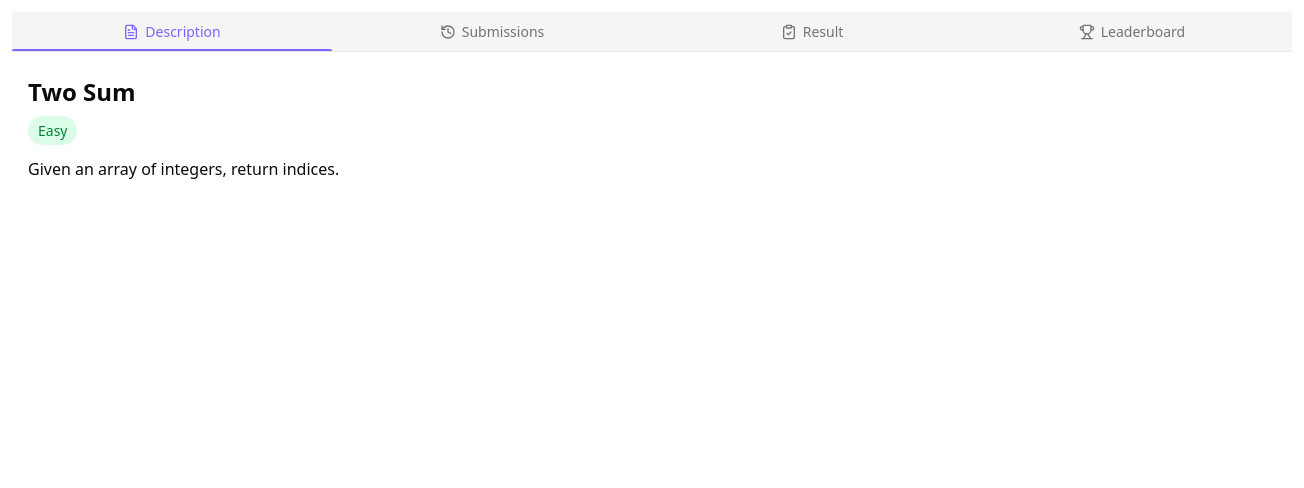
CodeDescArea — submission detail view › goes back to submissions list when back button is clicked
The image size is (1304, 488).
Expected: the element with test id "tabs-list" is shown, [12, 12, 1292, 52]
Click the tab "Submissions" at x=492, y=32, box [332, 12, 652, 51]
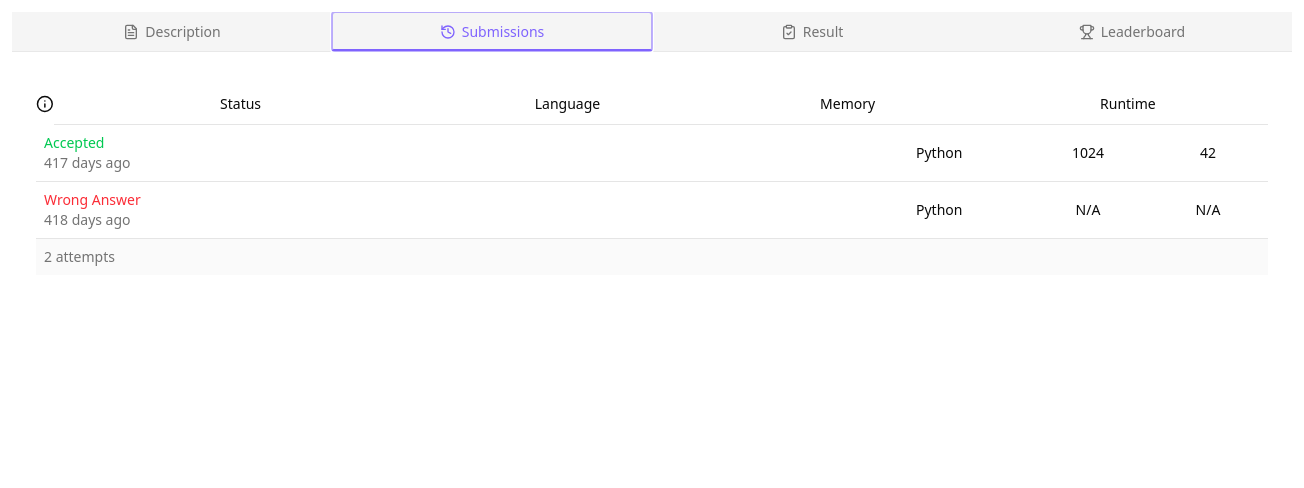
Now the row with test id "submission-1" is shown
Click the row with test id "submission-1" at x=652, y=153, box [36, 124, 1268, 181]
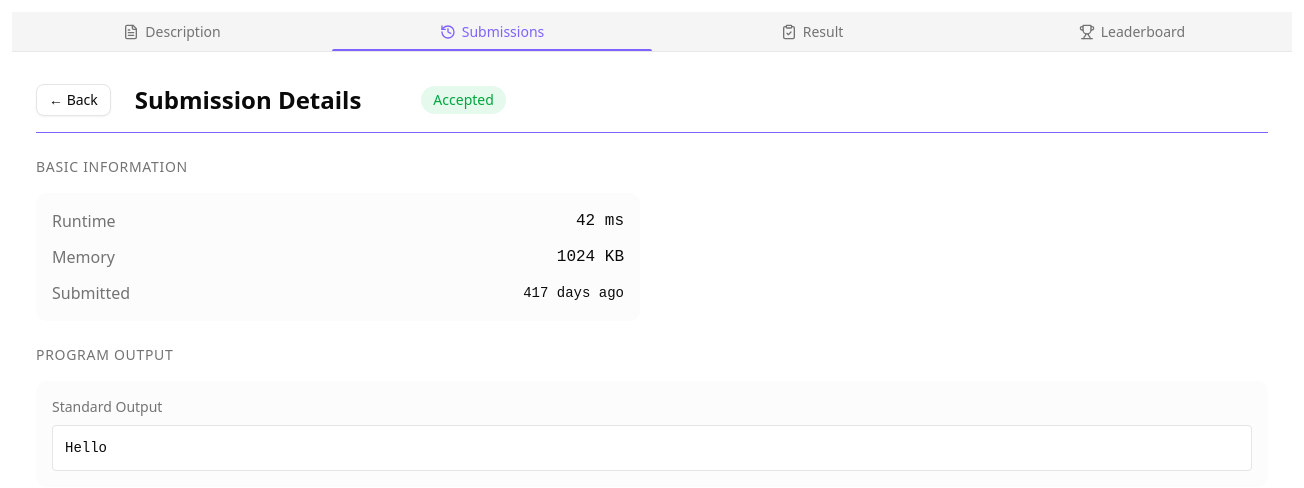
Click the button with test id "back-btn" at x=73, y=100, box [36, 84, 111, 116]
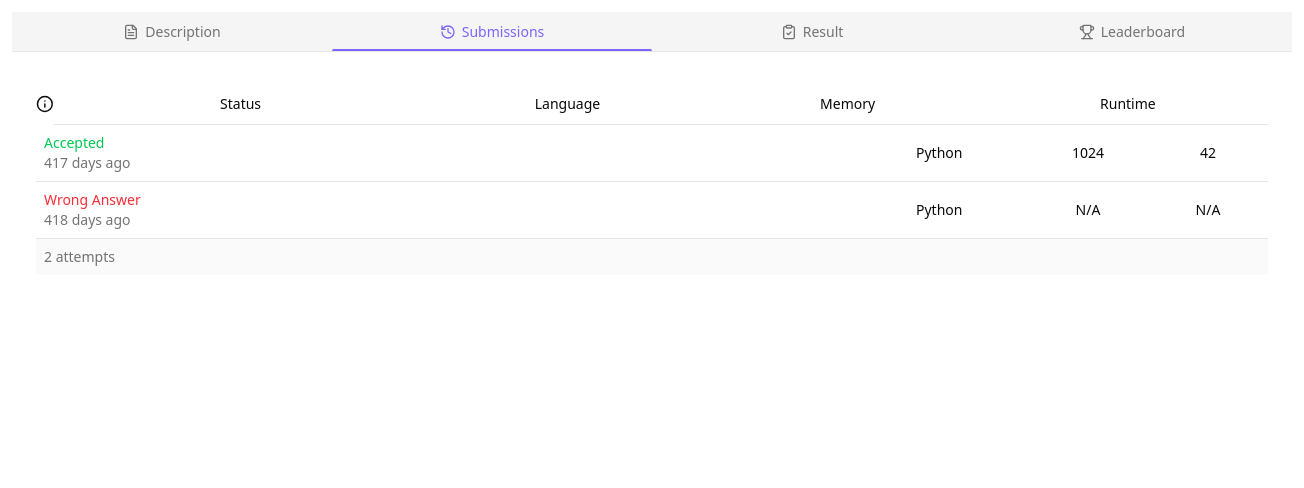
Now the row with test id "submission-1" is shown, box [36, 124, 1268, 181]
